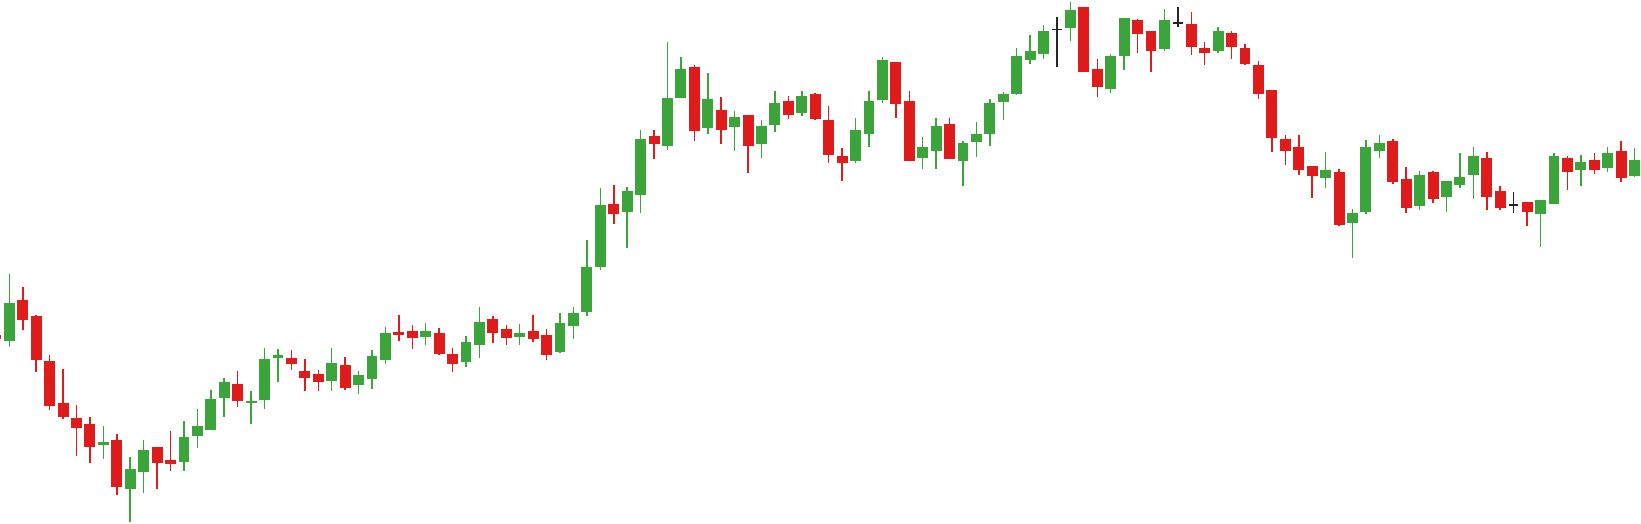buy: (741, 101, 864, 187)
